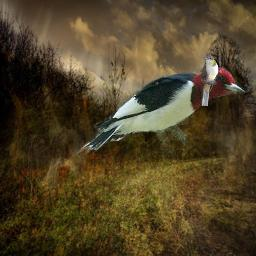Cuckoo: (200, 55, 218, 106)
Woodpecker: (76, 59, 251, 161)
